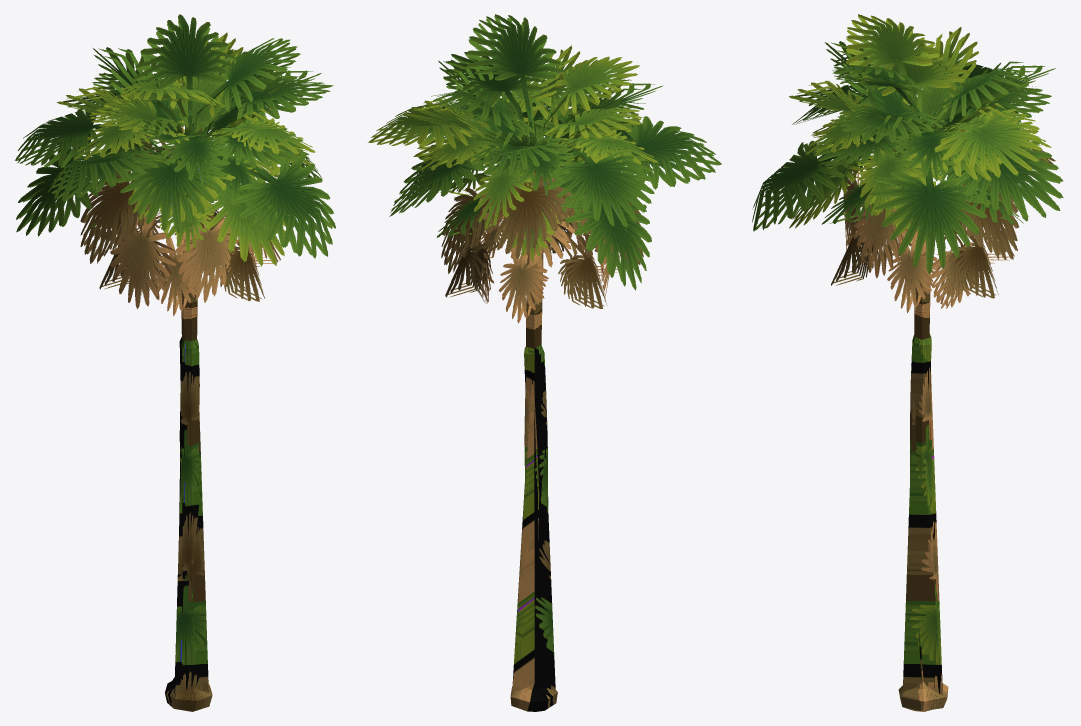
The model's file is sc-palm.glb.
The picture shows the model from 3 angles, left to right: view 1: azimuth 30°, elevation 25°; view 2: azimuth 150°, elevation 25°; view 3: azimuth 270°, elevation 25°; orthographic projection. The views are drawn at different scales.
Parts seen in each view (by area): view 1: SM_Env_Tree_Palm_02_LOD0, SM_Env_Tree_Palm_02_LOD1_L2; view 2: SM_Env_Tree_Palm_02_LOD0, SM_Env_Tree_Palm_02_LOD1_L2; view 3: SM_Env_Tree_Palm_02_LOD0, SM_Env_Tree_Palm_02_LOD1_L2.
Part boxes in pixels (<box>): SM_Env_Tree_Palm_02_LOD0: <box>15,14,335,711</box>; SM_Env_Tree_Palm_02_LOD1_L2: <box>16,19,332,707</box>; SM_Env_Tree_Palm_02_LOD0: <box>368,14,721,711</box>; SM_Env_Tree_Palm_02_LOD1_L2: <box>369,16,721,703</box>; SM_Env_Tree_Palm_02_LOD0: <box>752,14,1063,711</box>; SM_Env_Tree_Palm_02_LOD1_L2: <box>754,15,1060,695</box>.
Size of what is drawn, in the model's own units: 9.89 by 22 by 9.32.
Materials: 2 (2 with a texture image).
